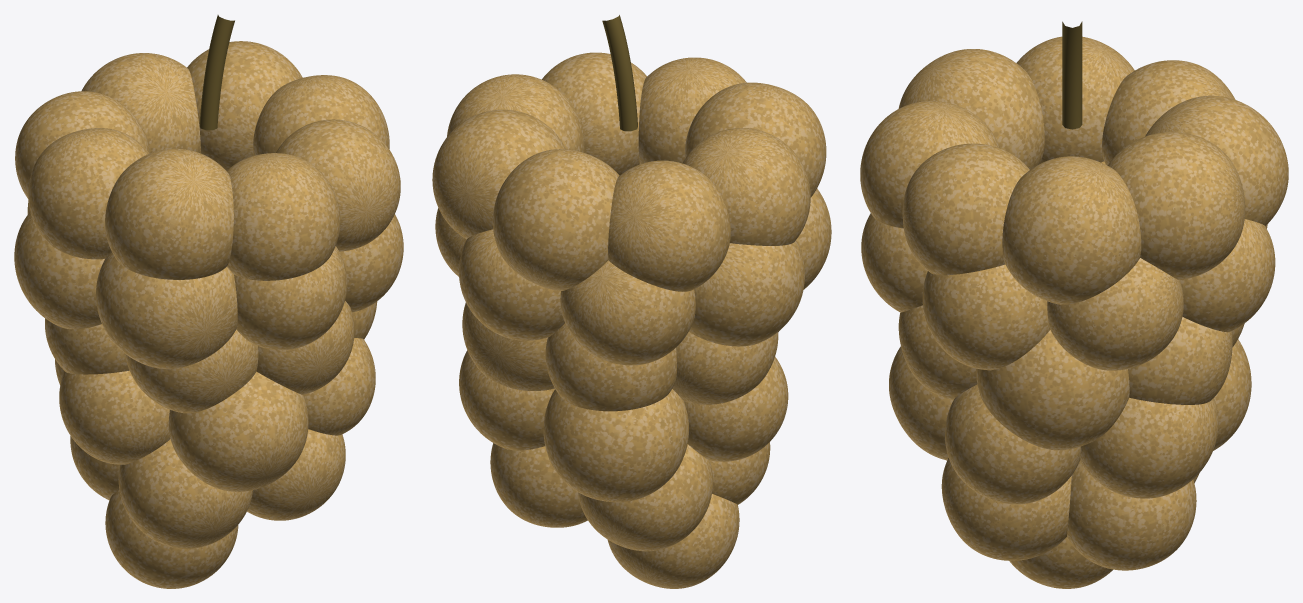
Rendered from longan.glb.
The picture shows the model from 3 angles, left to right: view 1: azimuth 30°, elevation 25°; view 2: azimuth 150°, elevation 25°; view 3: azimuth 270°, elevation 25°; orthographic projection. The views are drawn at different scales.
Size of the model in its own units: 0.105 by 0.1601 by 0.1045.
2 materials, 1 textured.
